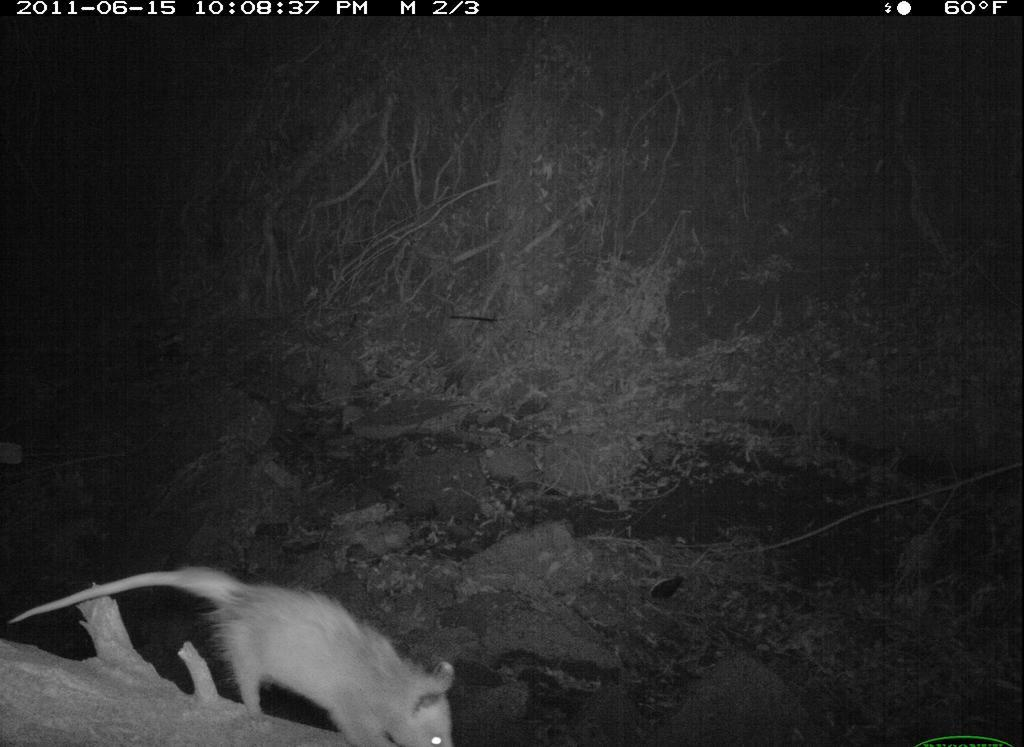opossum: (6, 561, 463, 743)
